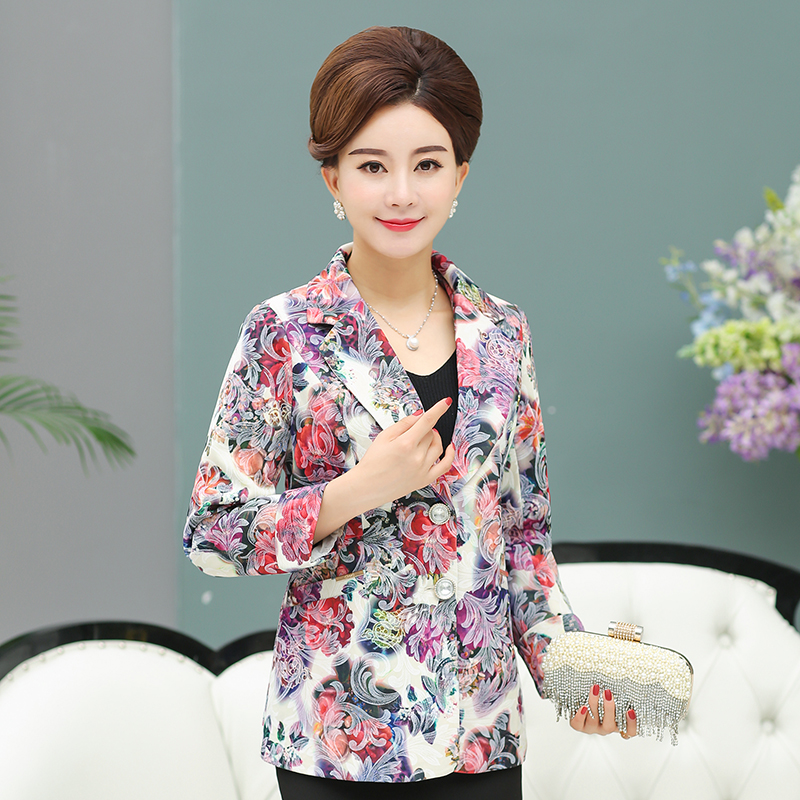F_W_suit jacket: (192, 257, 587, 747)
